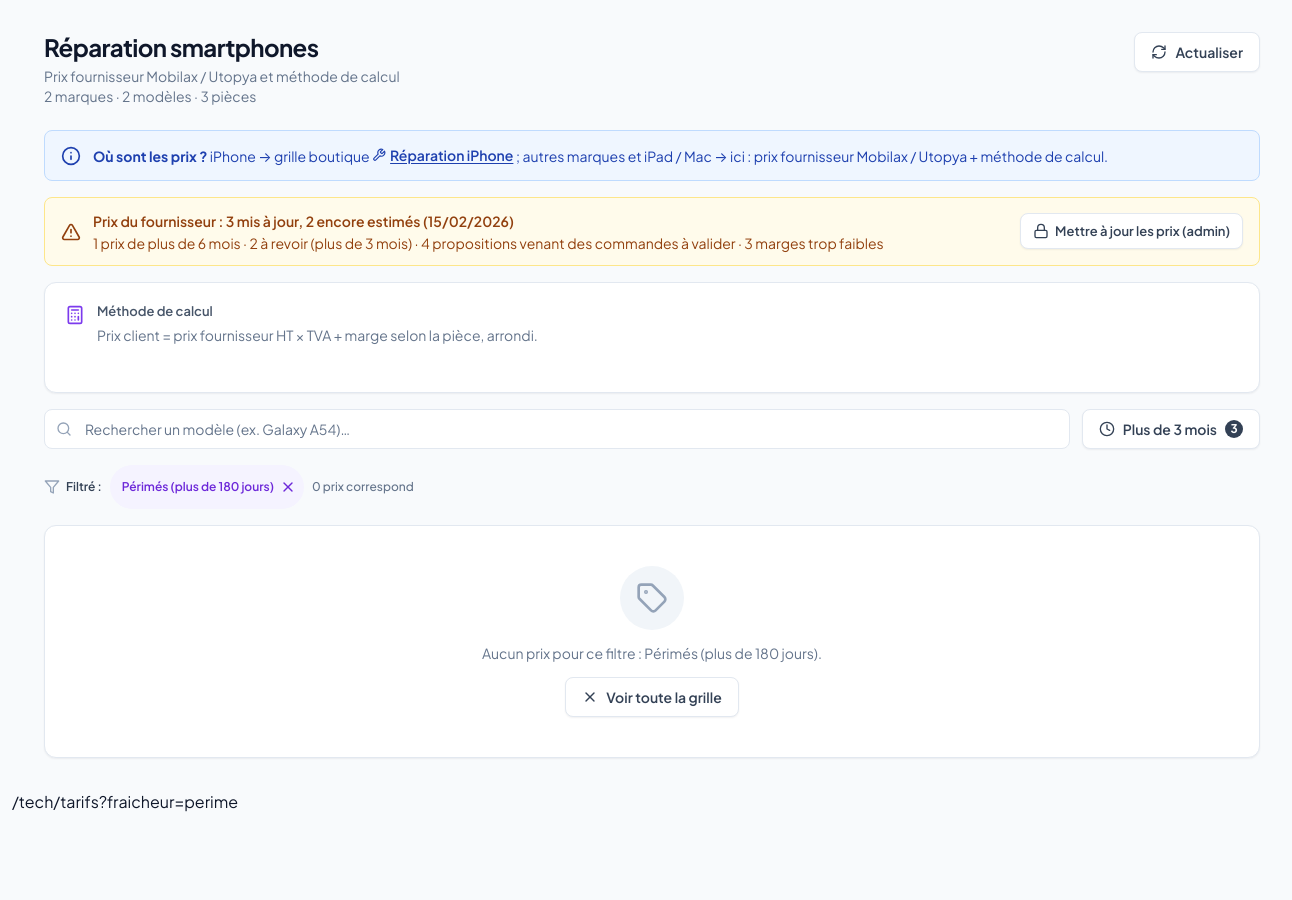
Test: TarifsPage : filtres envoyés par le tableau de bord › ?fraicheur=perime : périmés seulement ; aucune correspondance → message et « Voir toute la grille »
Expected: the text "Aucun prix pour ce filtre : Périmés (plus de 180 jours)." is shown, [482,642,822,665]
Click the button "Voir toute la grille": click(652, 697) [565,677,739,717]
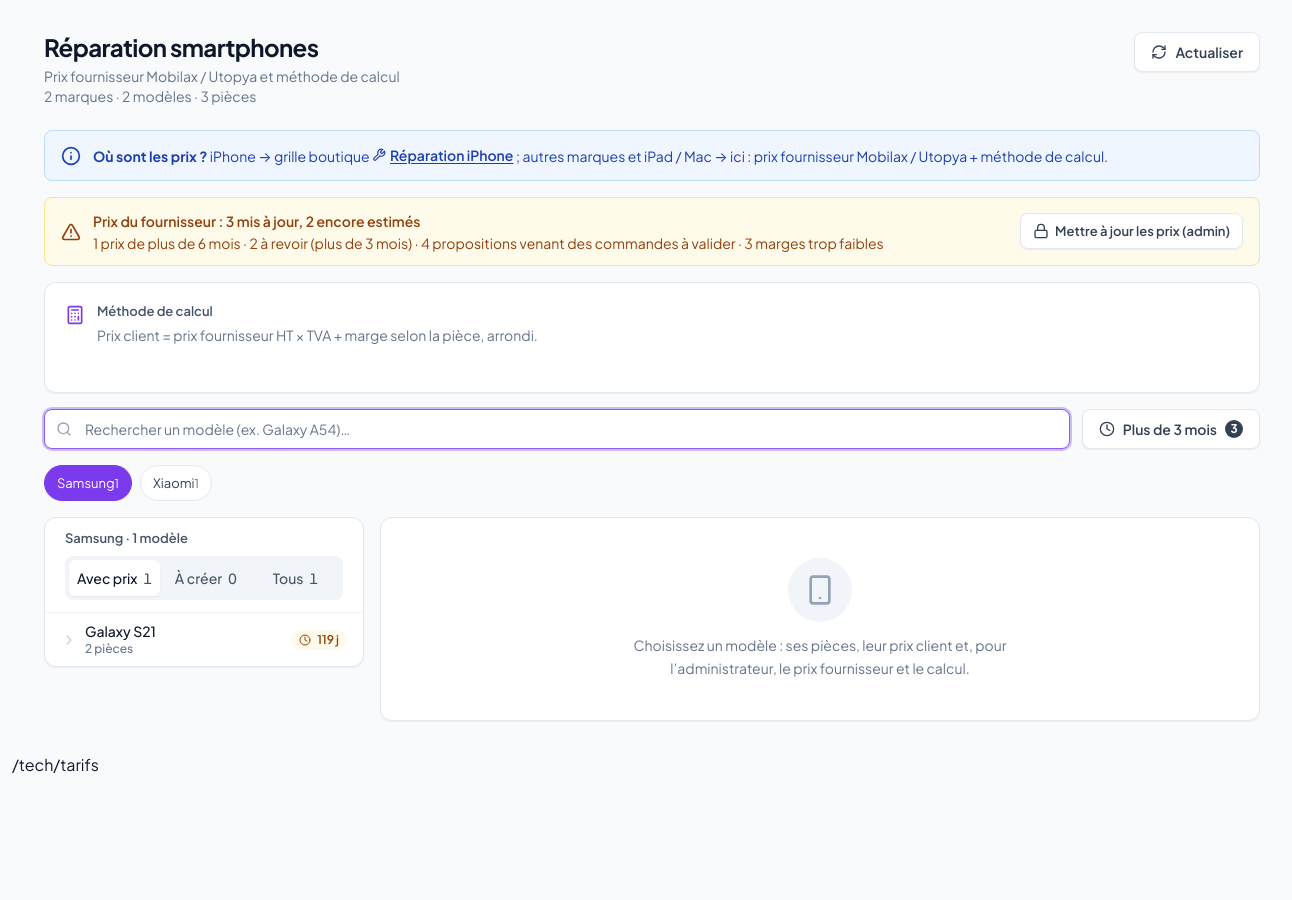
Expected: the text with test id "adresse" reads "/tech/tarifs", [12,754,99,775]
Expected: the element named "Marques" is shown, [44,465,212,501]
